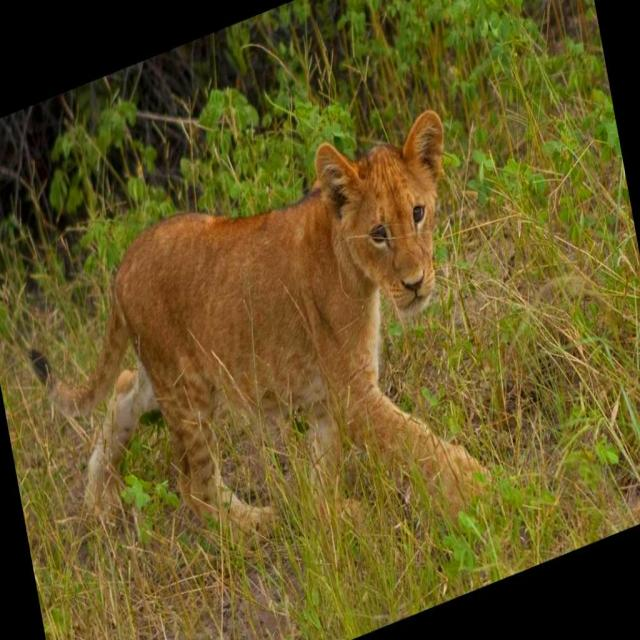Lion: (6, 94, 518, 639)
